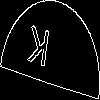K: (25, 25, 51, 76)
